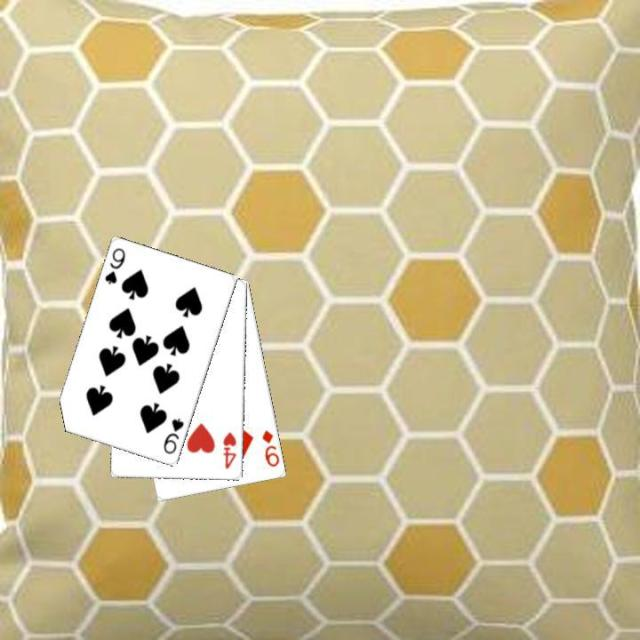4H: (220, 428, 238, 471)
9D: (258, 426, 281, 468)
9S: (160, 414, 186, 456), (101, 244, 127, 286)
